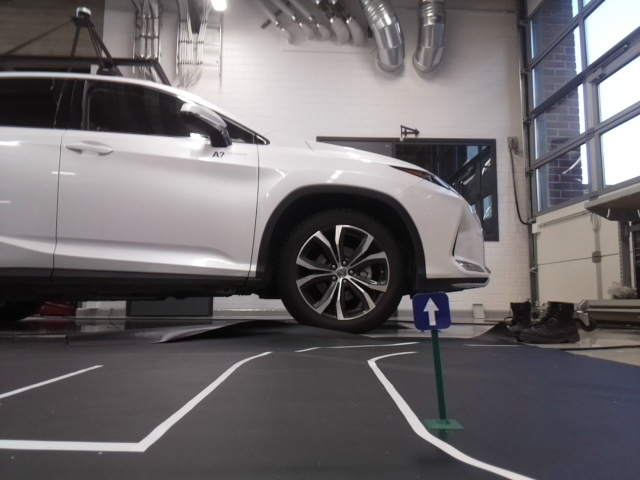OneWay: (411, 294, 450, 331)
